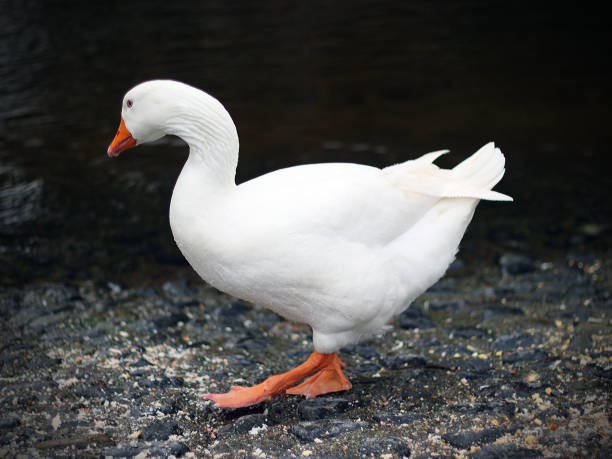goose: (107, 74, 520, 415)
